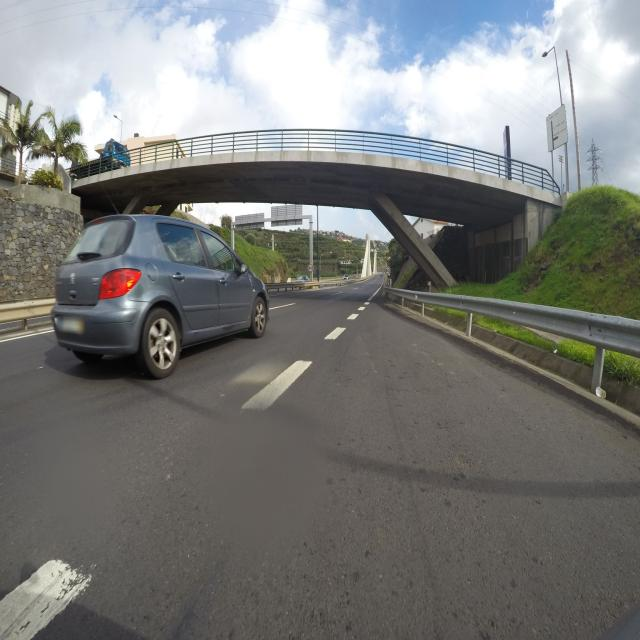car: (51, 212, 270, 380)
